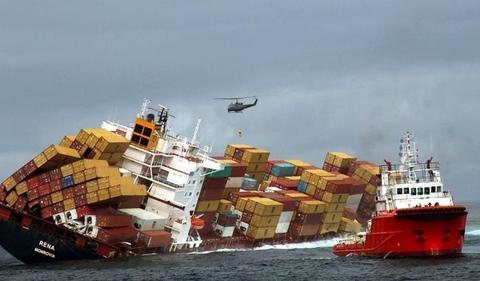Cargoship: (5, 100, 382, 262)
airplane: (212, 89, 264, 114)
otherboat: (329, 134, 472, 260)
